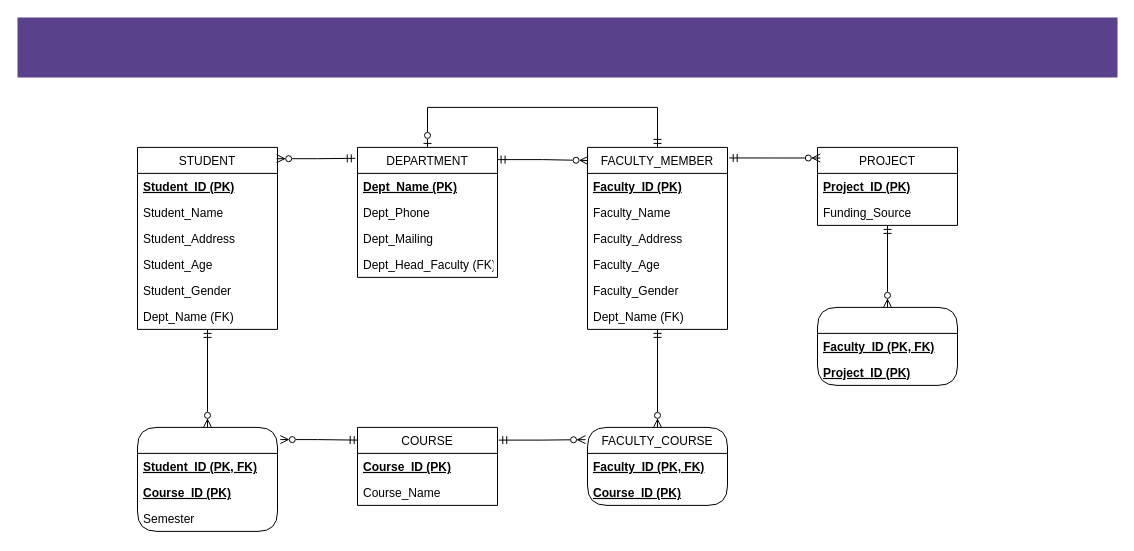
Some shapes in this 1134 by 551 pixel diagram are drawn without their labels. Here are the shapes that lost their labels. From the top down, the box of each, then its label:
(17, 17, 1117, 77): 31271 Database Fundamentals ERD Book Notation Template
(816, 306, 958, 385): FACULTY_PROJECT
(136, 426, 278, 531): STUDENT_COURSE
